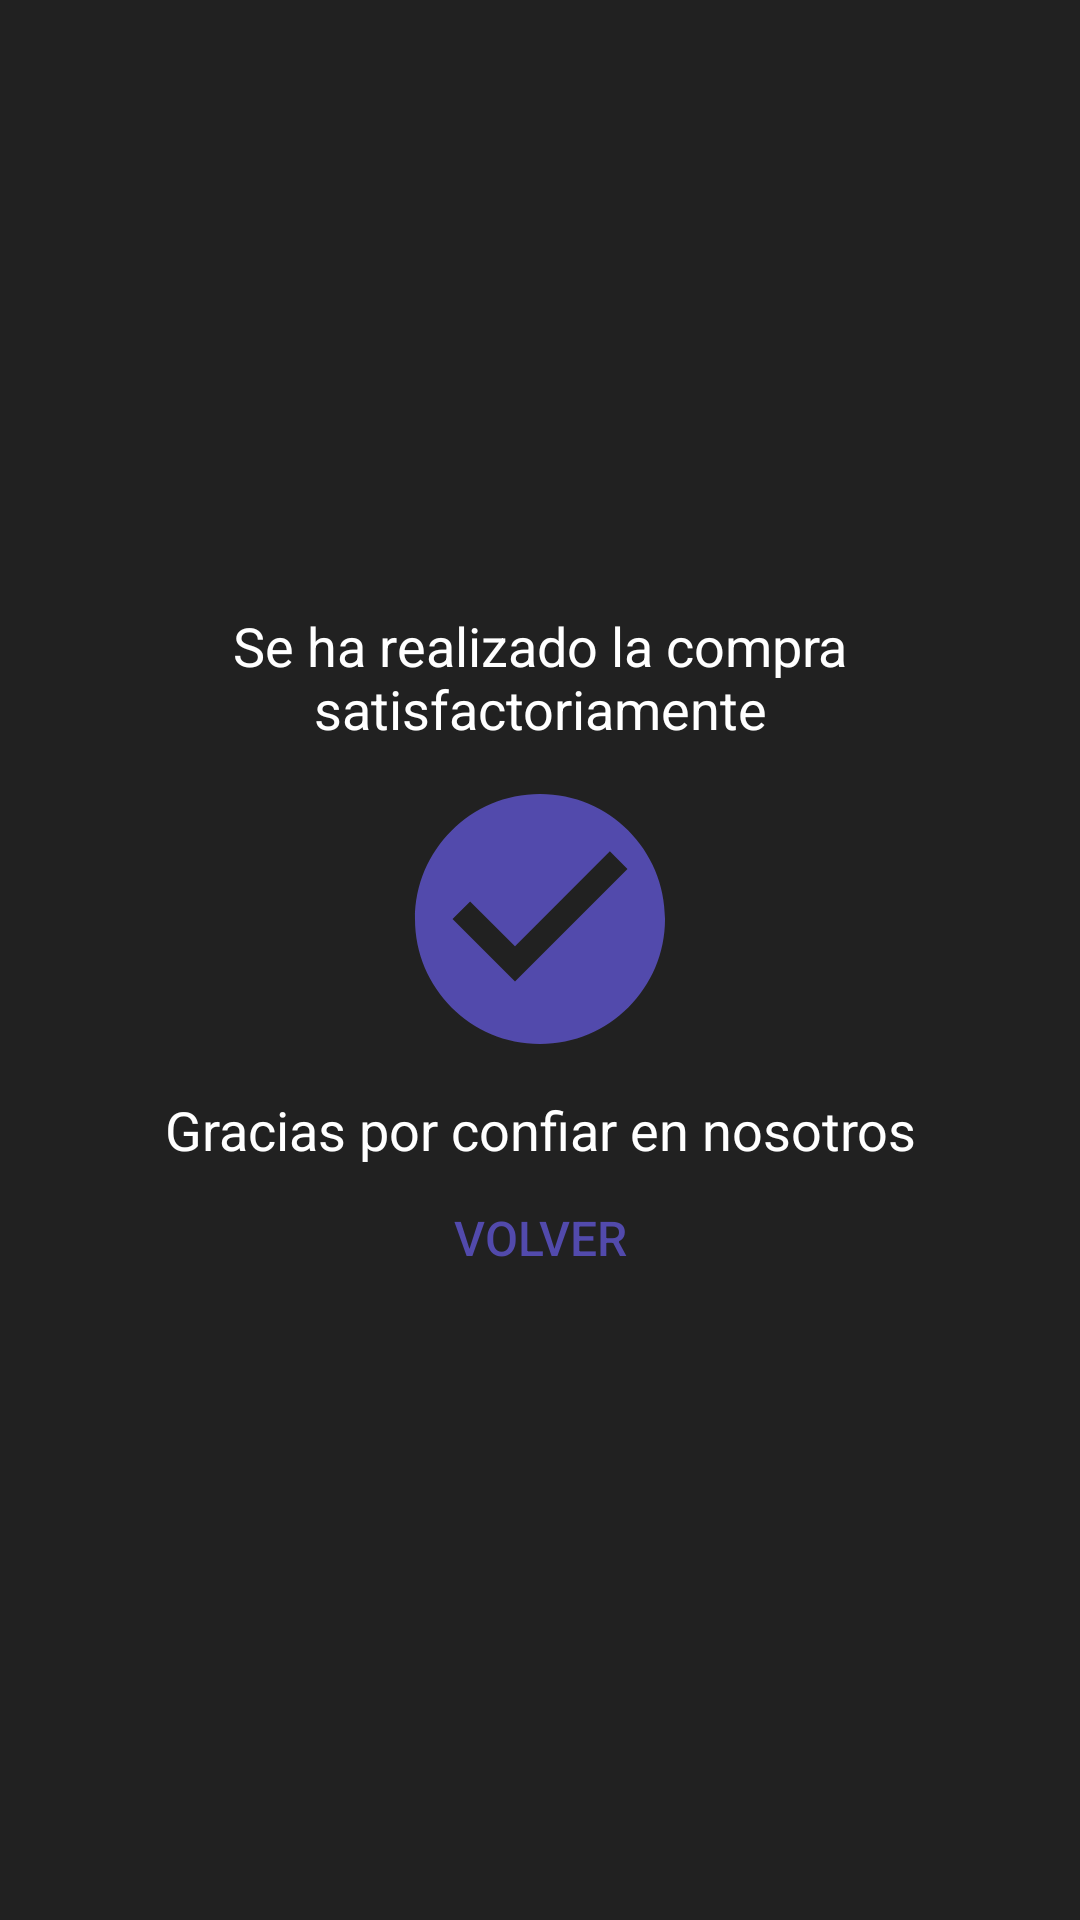

Named icons in this screenshot (1080px×1920px) and their bounding boxes, {"x1": x1, "y1": y1, "x2": x2, "y2": y2}:
check circle: {"x1": 415, "y1": 794, "x2": 665, "y2": 1044}
